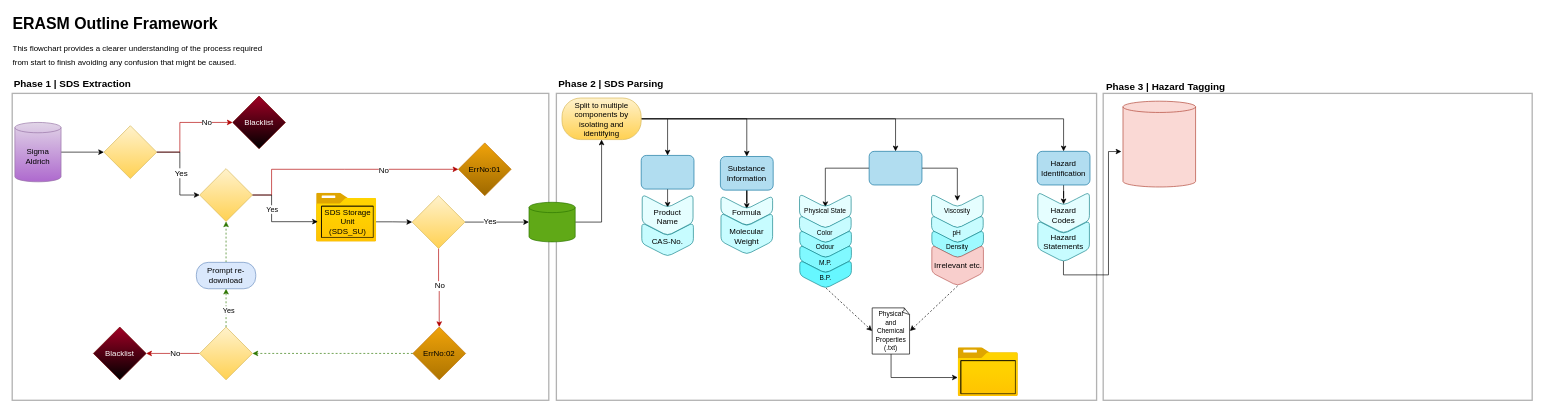
Some shapes in this 1544 by 412 pixel diagram are drawn without their labels. Here are the shapes that lost their labels. From the top down, the box of each, then its label:
(103, 125, 157, 179): Find Chemical
(1122, 101, 1196, 187): All Hazard Information (.txt)
(641, 155, 694, 189): Product Identifiers
(868, 151, 922, 185): Physical and Chemical Properties
(199, 168, 252, 221): Download SDS
(412, 195, 465, 248): Verify SDS Readability
(528, 202, 575, 242): SDS (.pdf)
(199, 326, 252, 380): Less than thrice
(960, 360, 1015, 394): Extracted Information (EI)
